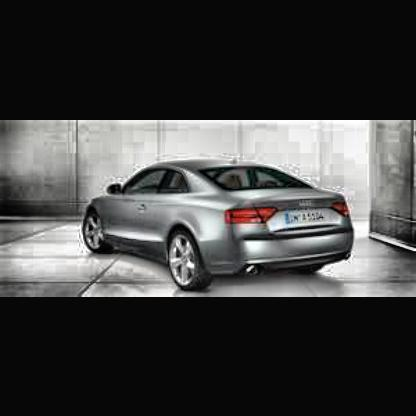Audi S5 Coupe 2012: (83, 155, 361, 296)
